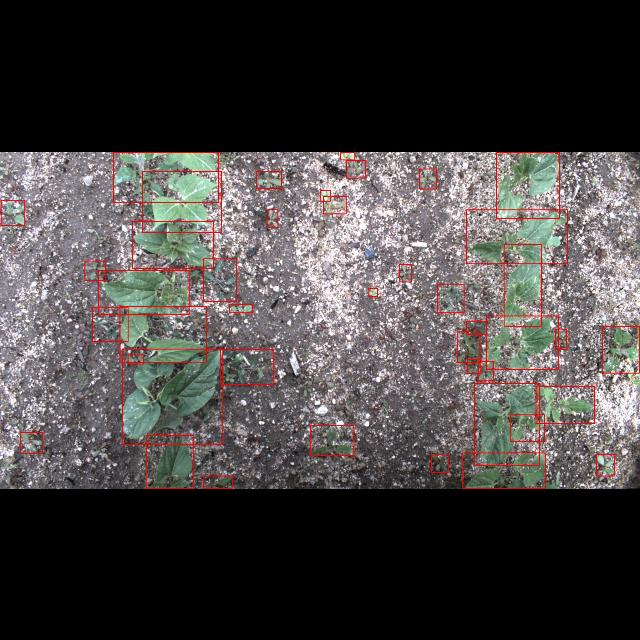crop: (122, 348, 224, 444), (467, 209, 568, 263), (474, 383, 540, 465), (142, 170, 222, 232), (120, 306, 206, 362), (496, 151, 560, 217), (99, 270, 190, 314), (132, 220, 214, 268), (486, 315, 558, 369), (504, 243, 542, 325), (462, 452, 546, 488), (147, 436, 193, 488)
weed: (114, 151, 218, 201), (536, 386, 594, 422), (220, 350, 274, 384), (602, 326, 640, 372), (311, 424, 354, 456), (204, 258, 236, 300), (92, 307, 128, 341), (510, 414, 544, 442), (438, 284, 464, 312), (456, 332, 479, 362), (1, 200, 25, 224), (256, 170, 282, 188), (21, 432, 43, 452), (85, 260, 105, 280), (324, 195, 346, 213), (597, 454, 615, 476), (203, 476, 233, 488), (346, 159, 366, 177), (419, 168, 436, 188), (478, 361, 494, 381), (432, 454, 448, 472), (466, 321, 486, 334), (398, 264, 412, 282), (556, 329, 566, 349), (467, 359, 481, 373), (268, 209, 278, 227), (230, 304, 252, 312), (128, 354, 144, 364), (340, 151, 356, 159), (320, 190, 330, 200), (368, 288, 378, 296)
